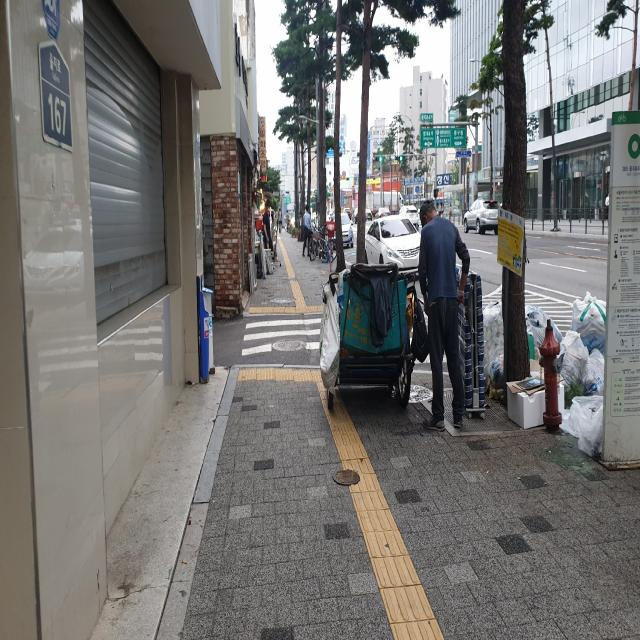횡단보도: (241, 317, 322, 357)
